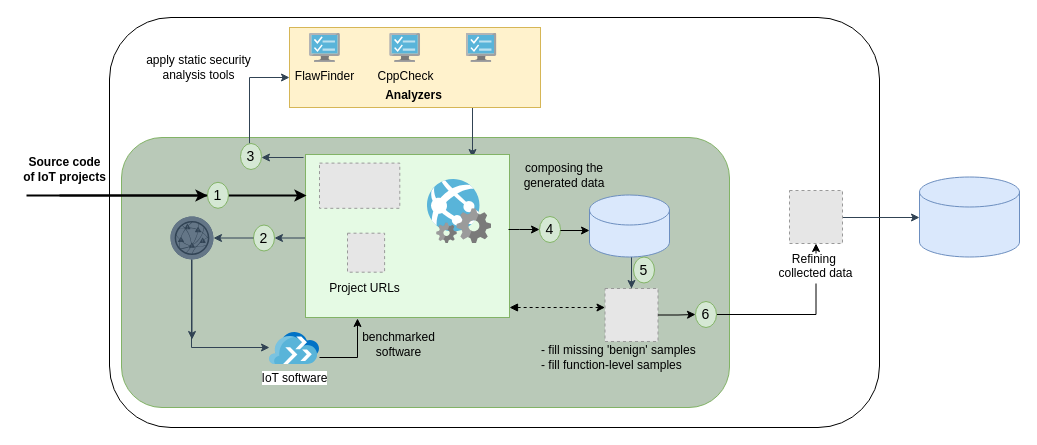
Some shapes in this 1037 by 445 pixel diagram are drawn without their labels. Grey dashed boxes stand in for pictures. The centre of each missing label's shape, as x and y in pixels:
CVE Vulnerability Records: point (192, 238)
Other Hosting Databses: point (459, 211)
Rats: point (481, 47)
Raw Dataset: point (629, 225)
TinyVul Dataset: point (969, 216)
